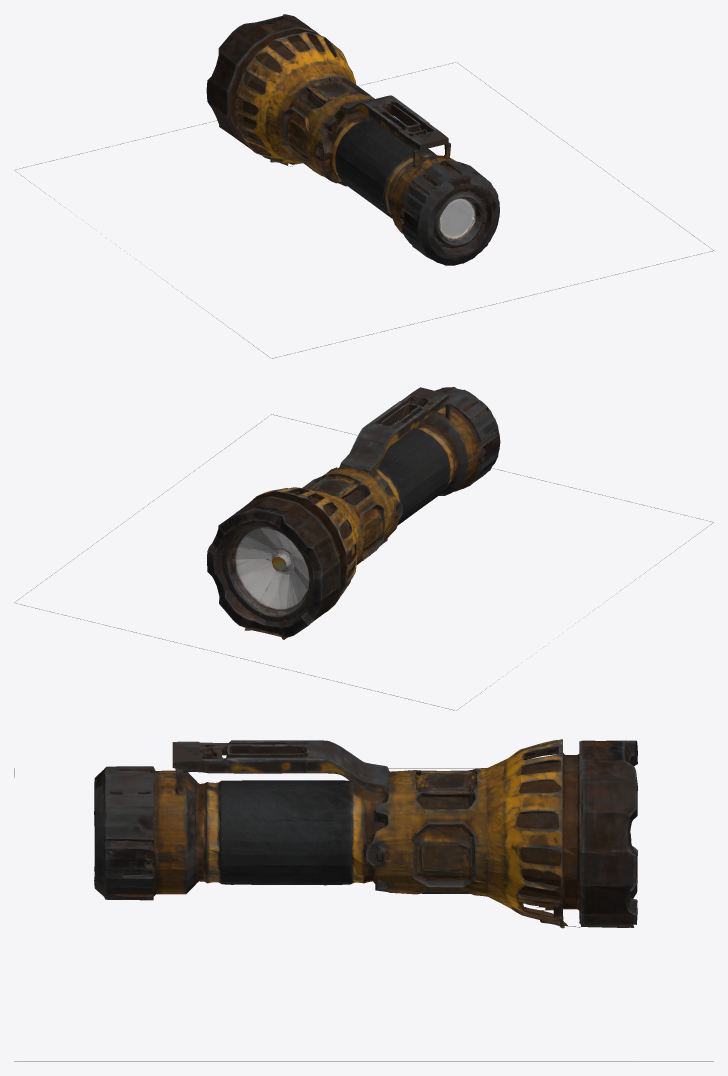
File: linterna.glb
3 views of the same model, one above another, from view 1: azimuth 30°, elevation 25°; view 2: azimuth 150°, elevation 25°; view 3: azimuth 270°, elevation 25° (orthographic). The views are drawn at different scales.
Parts seen in each view (by area): view 1: geometry_0; view 2: geometry_0; view 3: geometry_0.
Boxes of the visible parts, bbox=[...] form: geometry_0: bbox=[14, 14, 713, 358]; geometry_0: bbox=[14, 387, 713, 710]; geometry_0: bbox=[14, 739, 713, 1061].
Size of the model in its own units: 0.9915 by 0.262 by 0.9996.
Materials: 1 (1 with a texture image).
